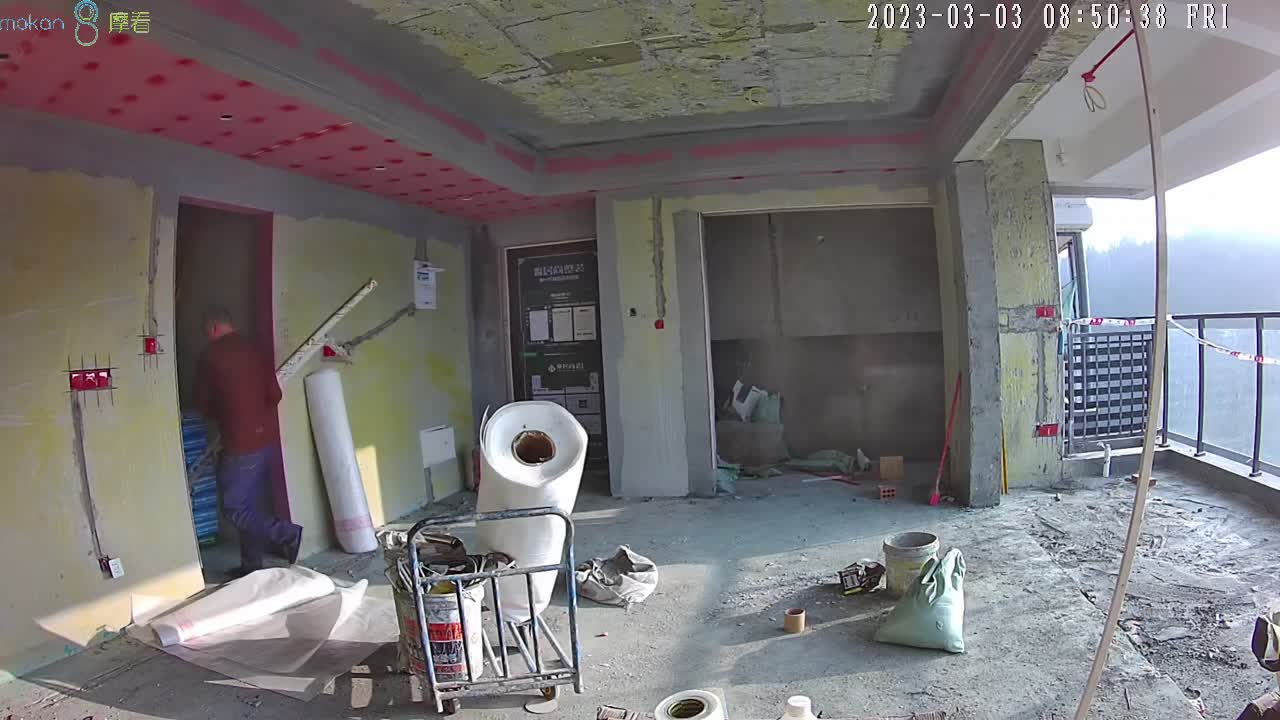people: (192, 305, 303, 580)
window: (1060, 308, 1280, 482)
